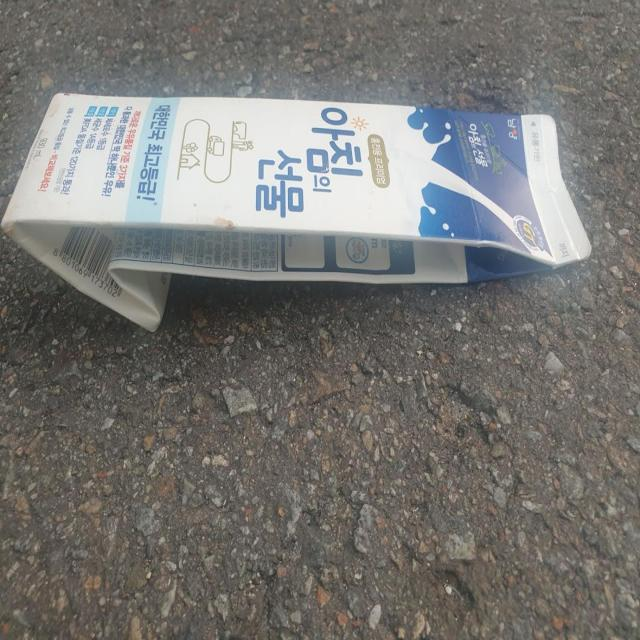paperpack: (1, 92, 592, 330)
